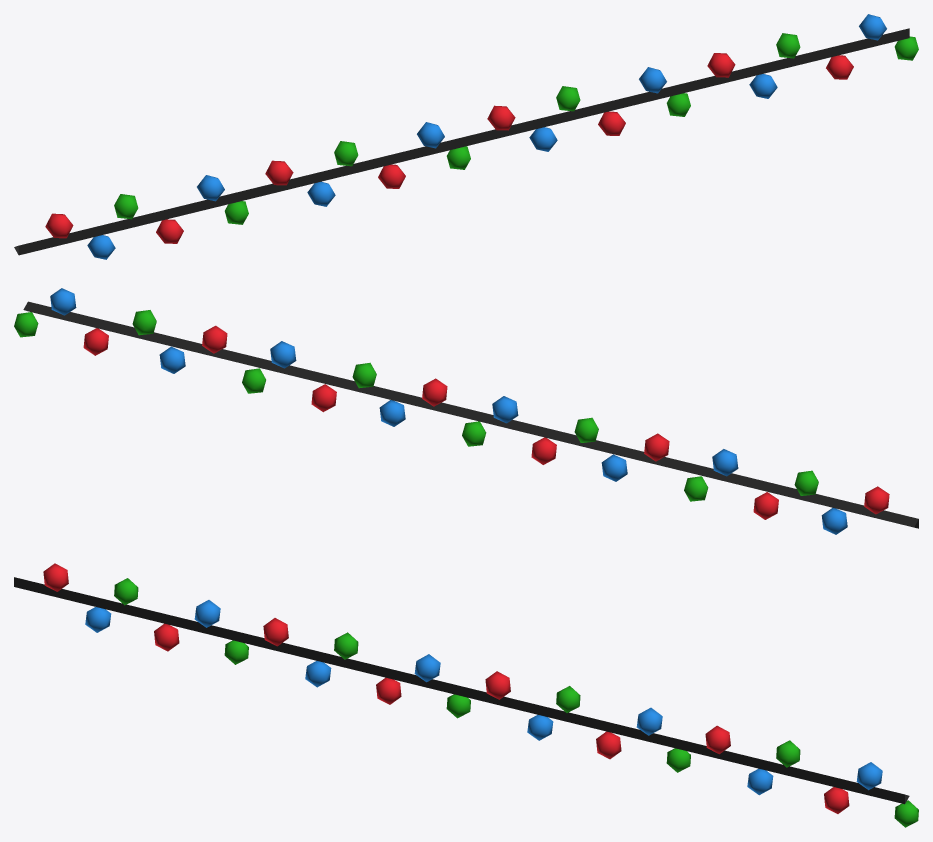
File: Cable.fbx
3 views of the same model, one above another, from view 1: azimuth 30°, elevation 25°; view 2: azimuth 150°, elevation 25°; view 3: azimuth 330°, elevation 25° (orthographic).
Parts seen in each view (by area): view 1: Cable; view 2: Cable; view 3: Cable.
Boxes of the visible parts, x1,y1,x2,y2 form: Cable: (14,14,918,259); Cable: (14,288,918,534); Cable: (14,563,918,827).
Bounding box in the file's own units: 0.2534 × 4.26 × 0.1205.
